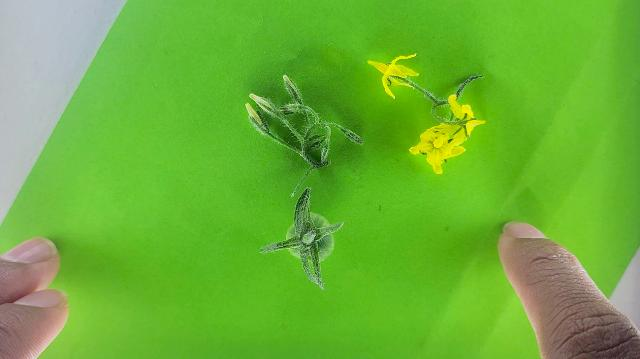Anthesis: (409, 121, 472, 175), (365, 52, 420, 100)
Flower Bud: (246, 102, 270, 134), (282, 73, 304, 106), (252, 95, 274, 113), (245, 102, 255, 116)
Fruit Maturation: (287, 212, 337, 261)
